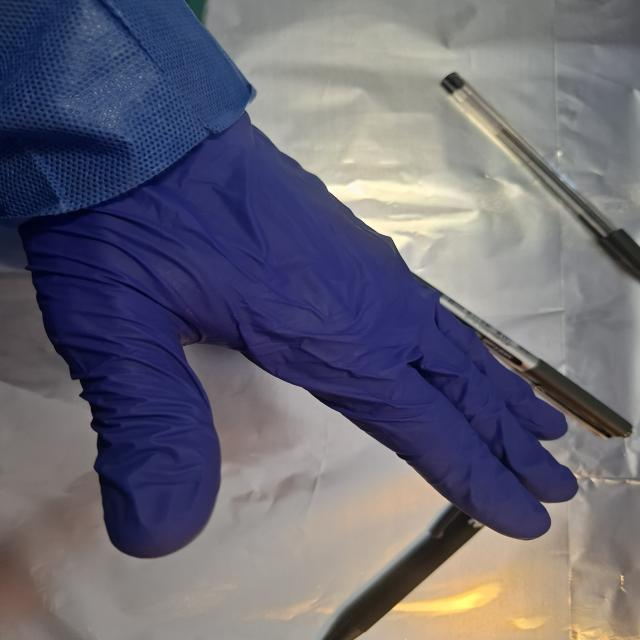glove_on: (11, 111, 585, 560)
